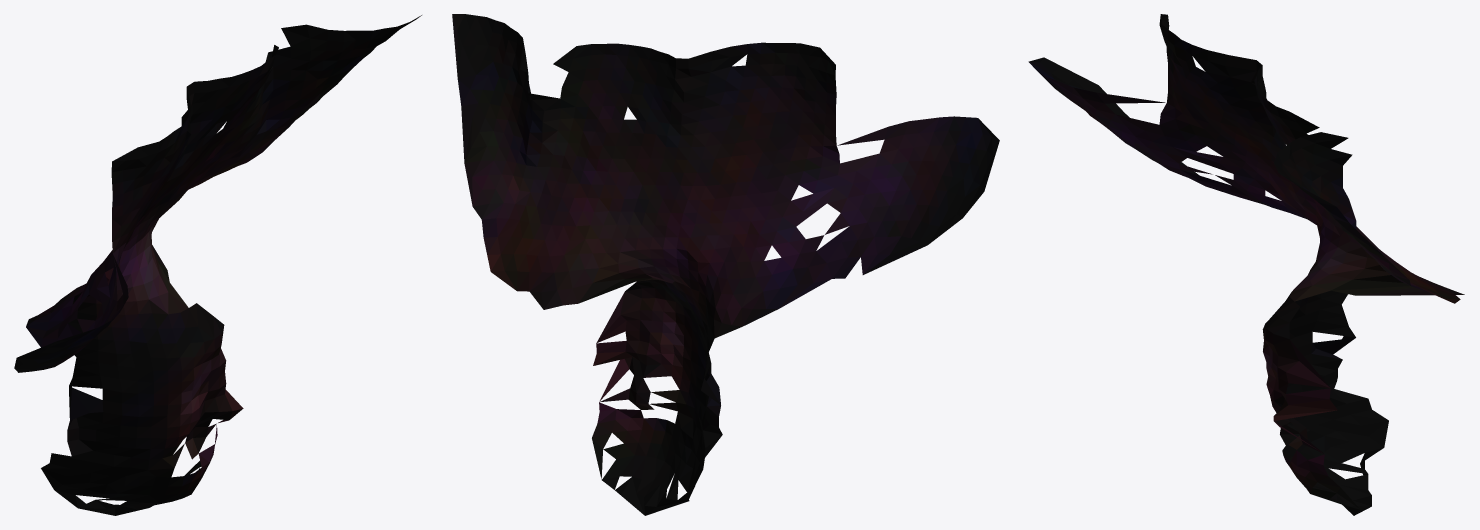
3 views of the same model, side by side, from view 1: azimuth 30°, elevation 25°; view 2: azimuth 150°, elevation 25°; view 3: azimuth 270°, elevation 25° (orthographic). The views are drawn at different scales.
Parts seen in each view (by area): view 1: ofMesh; view 2: ofMesh; view 3: ofMesh.
Boxes of the visible parts, x1=… form: ofMesh: x1=14, y1=15, x2=421, y2=515; ofMesh: x1=452, y1=14, x2=999, y2=515; ofMesh: x1=1028, y1=14, x2=1464, y2=515.
Bounding box in the file's own units: 460 × 410 × 360.
Materials: 1 (1 with a texture image).
